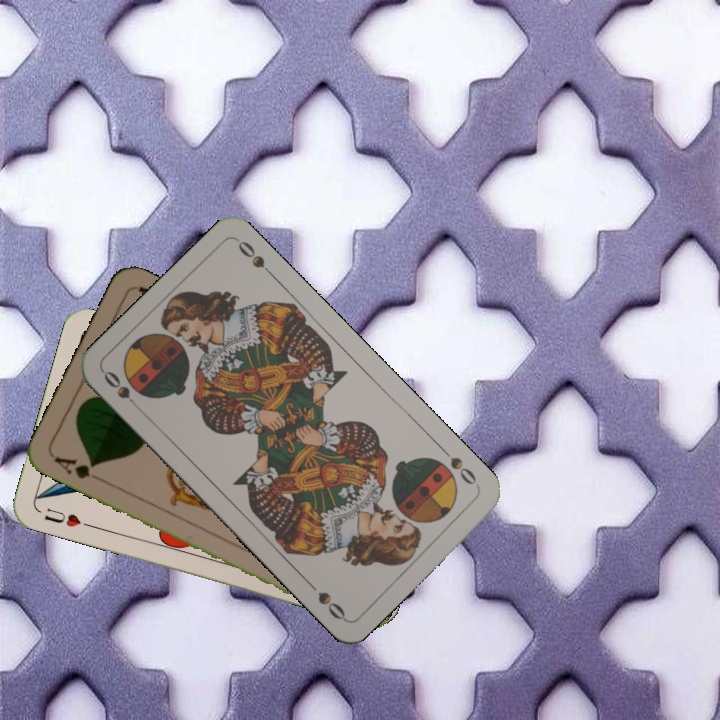GA: (50, 452, 105, 484)
HU: (40, 503, 94, 530)
SO: (99, 366, 144, 415), (436, 443, 482, 490)
